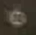limite 50: (8, 9, 28, 29)
